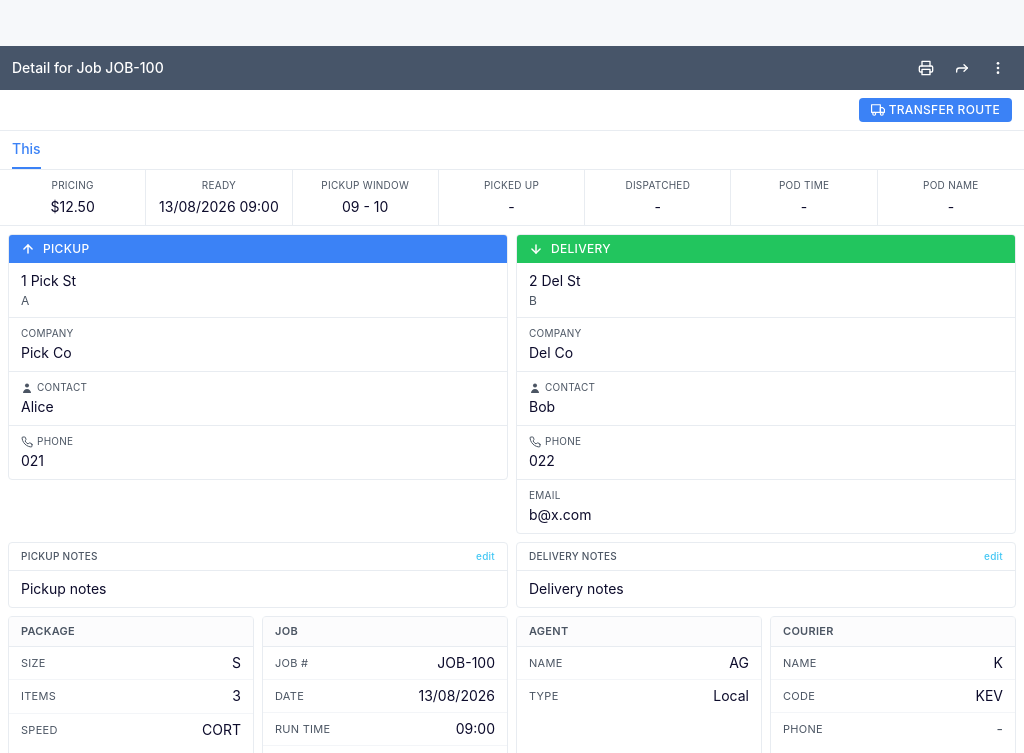
Test: RvJobDetail (actions) › opens GPS modal on pickup card right-click
(page scrolled)
# Right-click the pickup card (element with title "PICKUP")
Right-click the element showing "Pickup 1 Pick St A Company Pick Co Contact Alice Phone 021" at (258, 384), box [8,234,508,534]
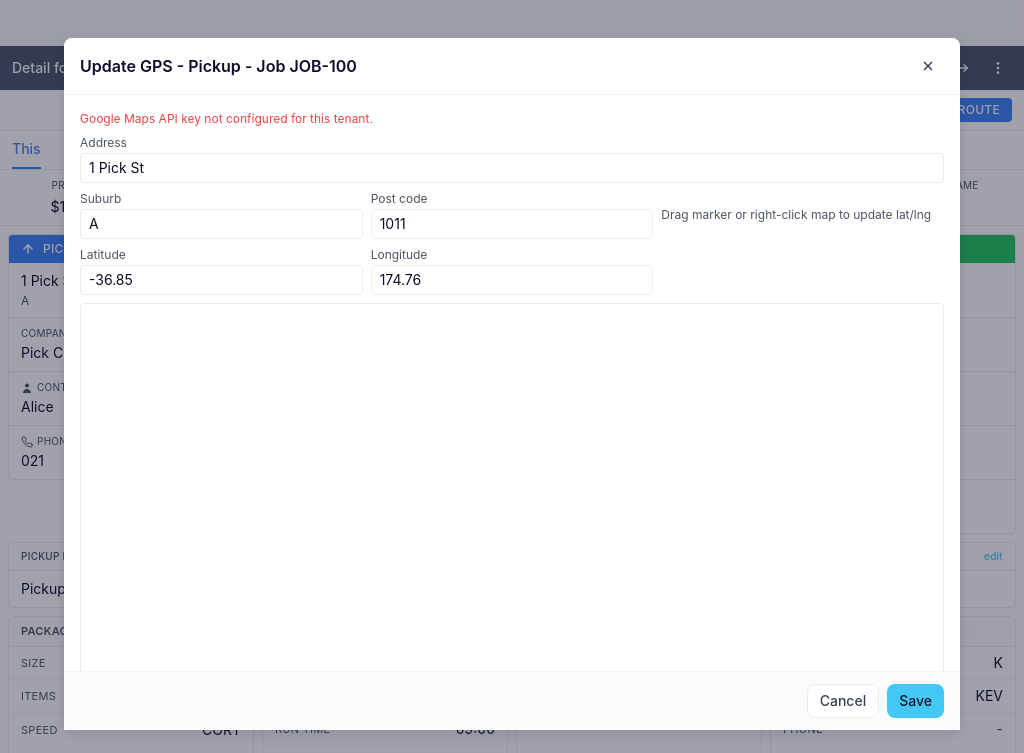
Check: the heading "Update GPS - Pickup - Job JOB-100" is shown, box [80,54,357,78]
